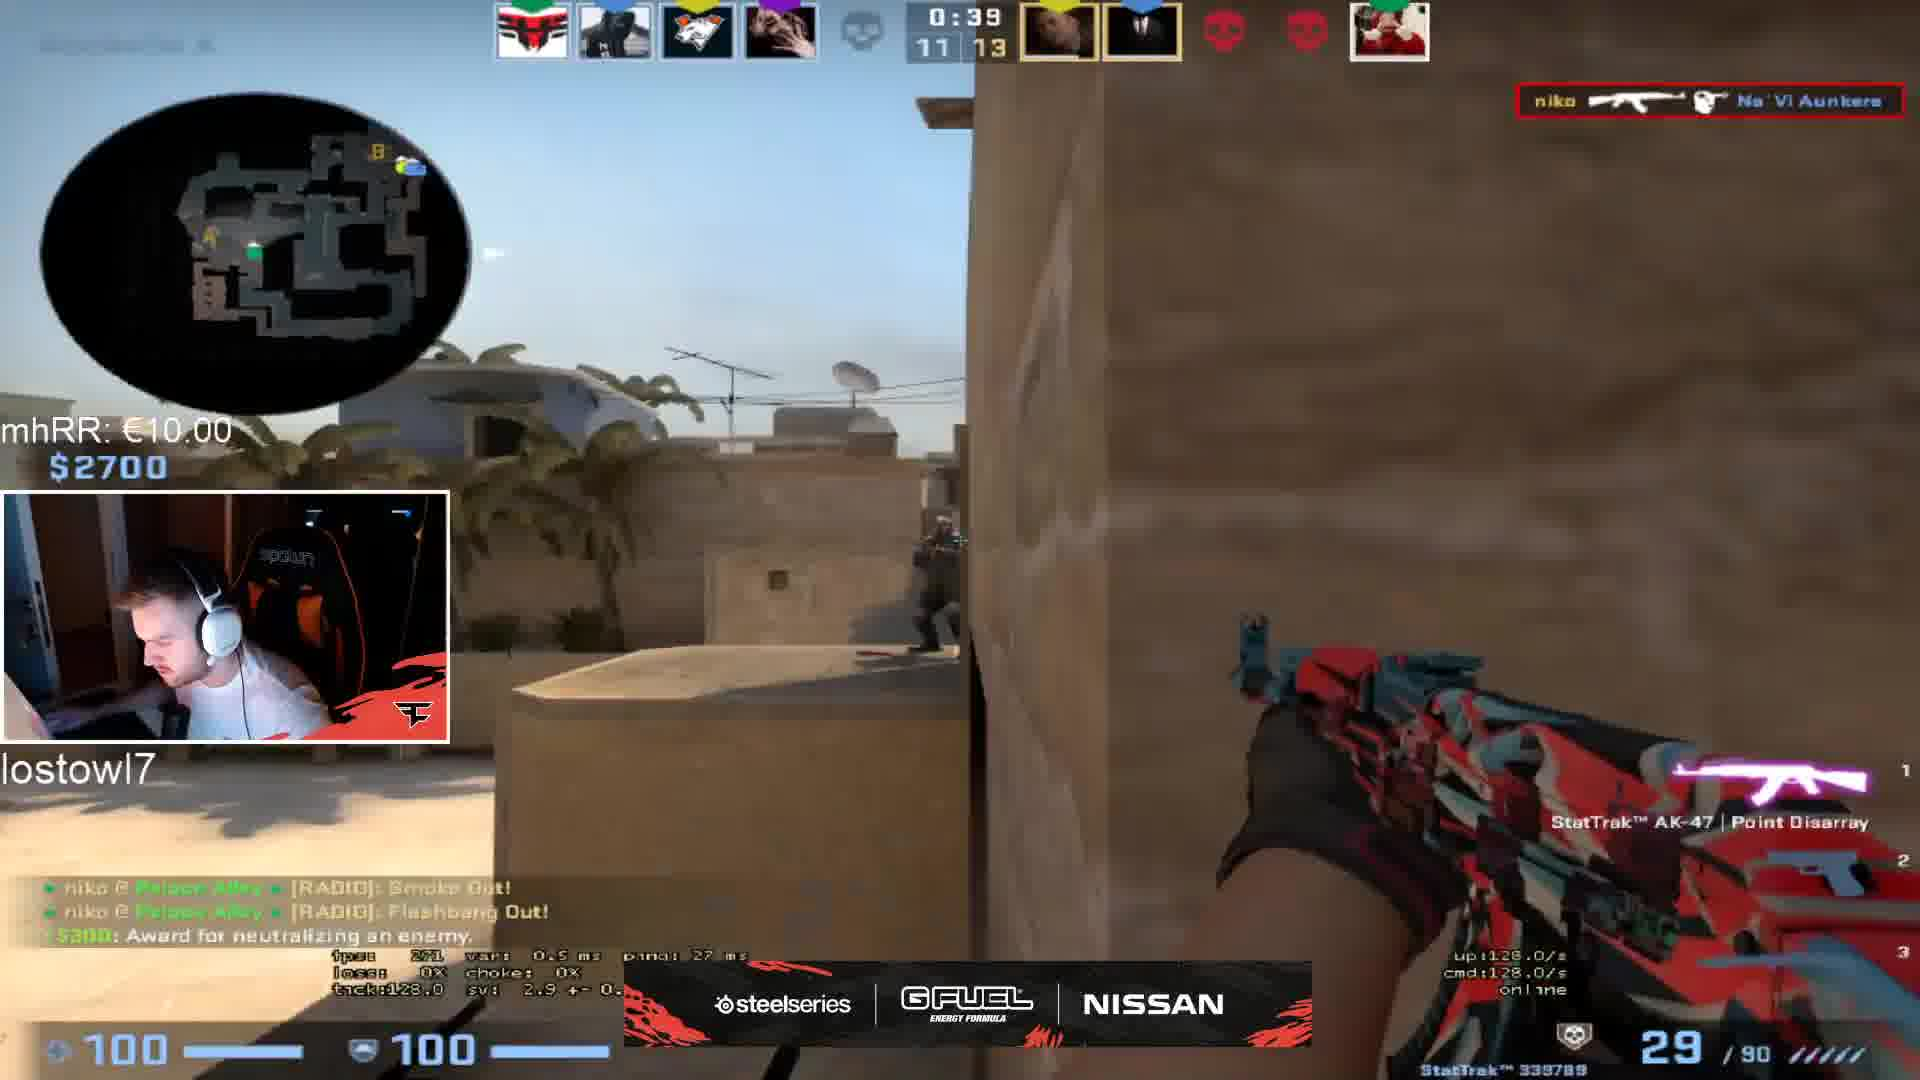enemy: (905, 506, 975, 662)
